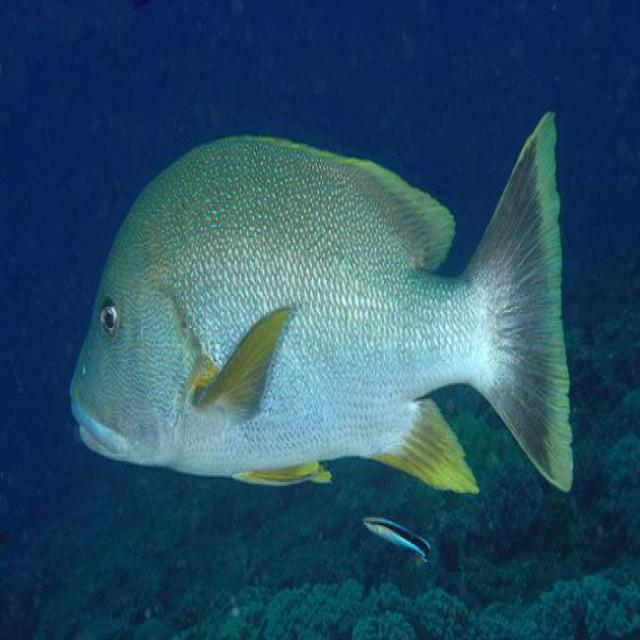ikan: (68, 108, 575, 497)
